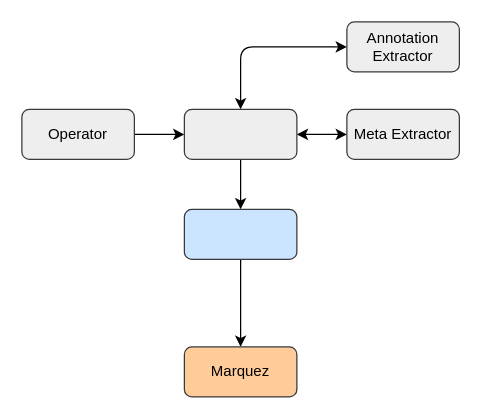
Some shapes in this 481 by 419 pixel diagram are drawn without their labels. Each missing label, with the box of its shape:
Adapter: (183, 208, 297, 259)
Extractor: (183, 108, 297, 159)
